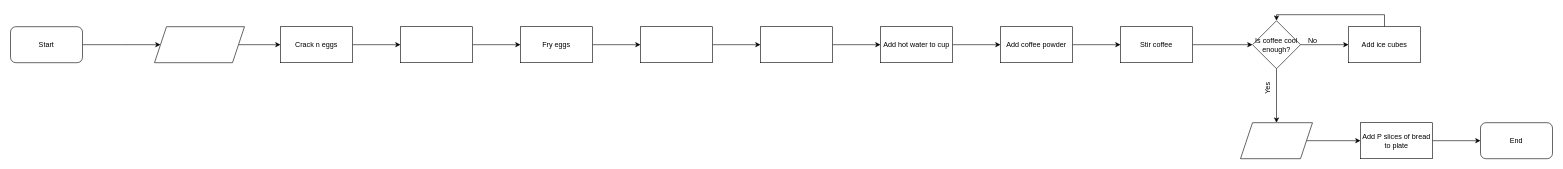
The diagram is 1563 pixels wide and 169 high, and some of its shapes have lost their labels. Here are the shapes that lost their labels. From the top down, the box of each, then its label:
(154, 26, 244, 63): How many eggs to fry? Store as n.
(400, 26, 472, 63): Beat n eggs
(640, 26, 712, 63): Add eggs to plate
(760, 26, 832, 63): Boil Water
(1240, 122, 1312, 159): How many slices of bread? Store as P.
